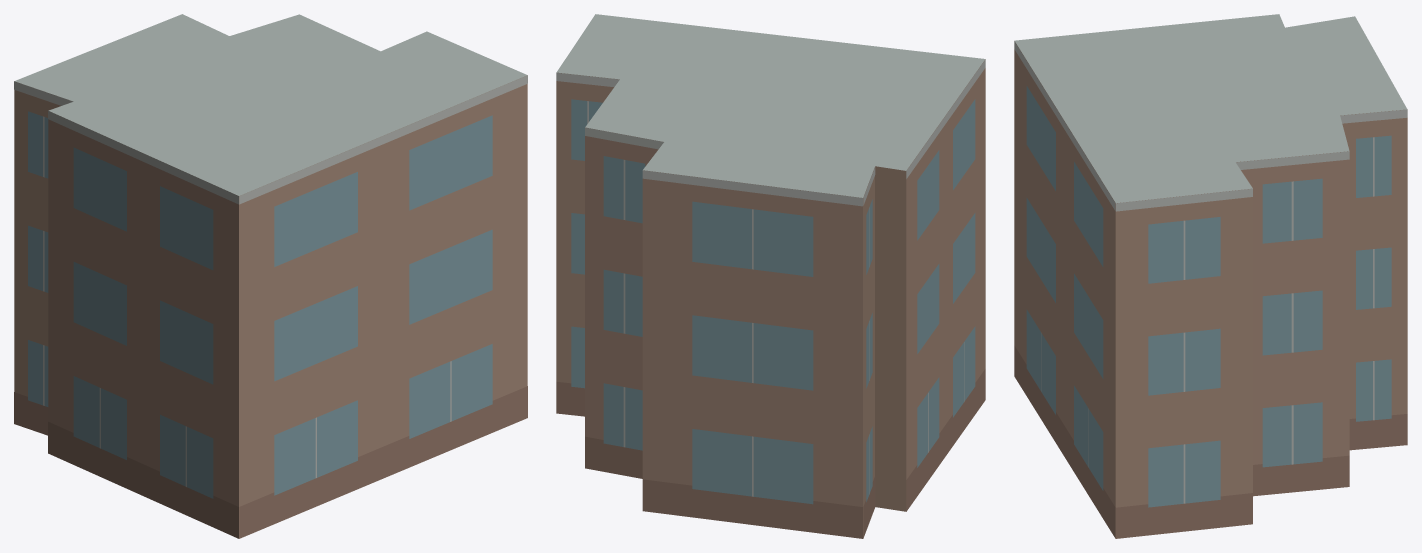
File: survey-upis-32694936.glb
3 views of the same model, side by side, from view 1: azimuth 30°, elevation 25°; view 2: azimuth 150°, elevation 25°; view 3: azimuth 270°, elevation 25° (orthographic). The views are drawn at different scales.
Visible parts, largest first — view 1: survey-upis-32694936.tmp; view 2: survey-upis-32694936.tmp; view 3: survey-upis-32694936.tmp.
Part boxes in pixels (left/top/right/bottom): survey-upis-32694936.tmp: left=14, top=14, right=527, bottom=538; survey-upis-32694936.tmp: left=556, top=14, right=985, bottom=538; survey-upis-32694936.tmp: left=1014, top=14, right=1407, bottom=538.
Size of the model in its own units: 11.86 by 9.8 by 10.41.
